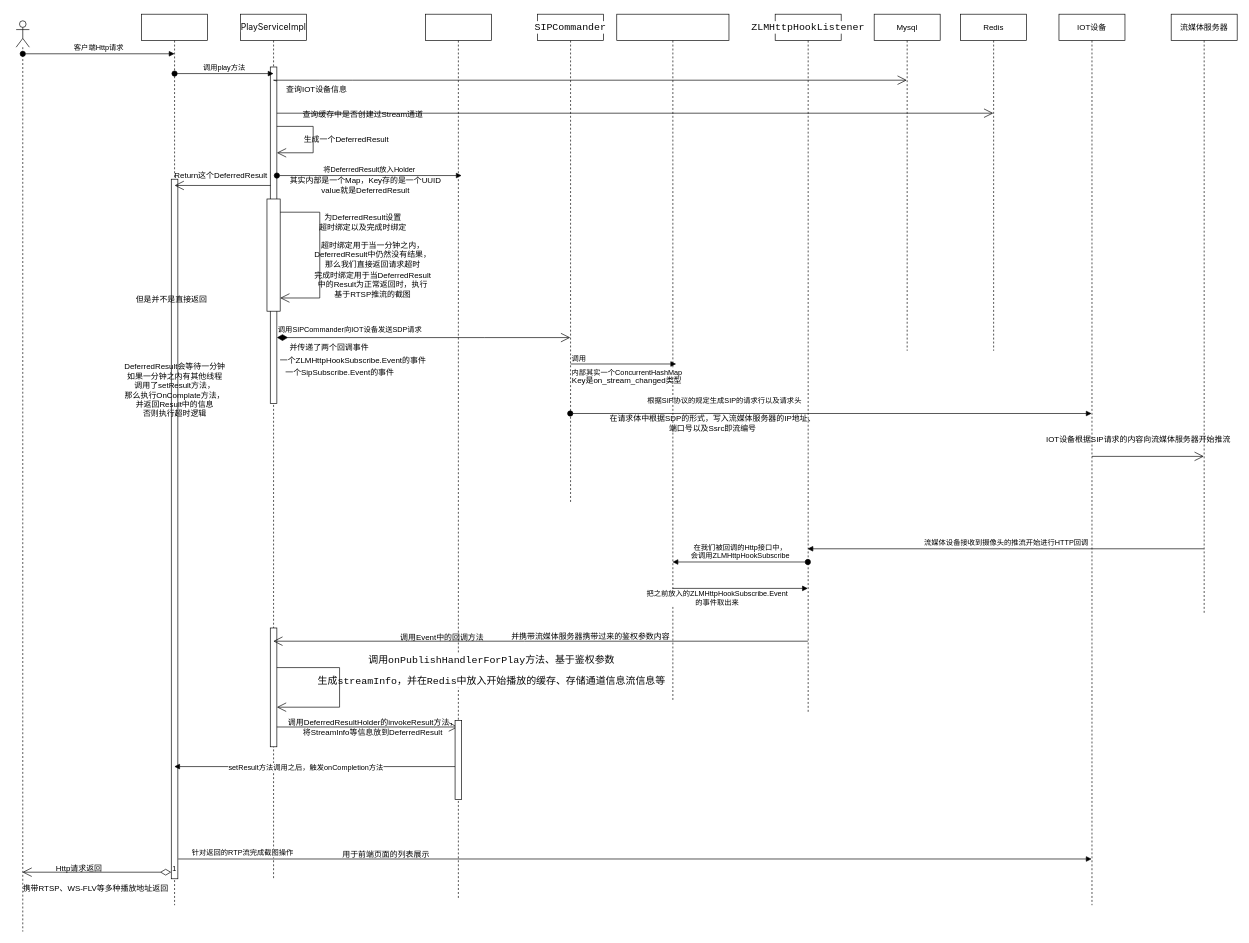
This 1249x943 diagram has some shape labels left out. The box of each missing label's shape, as (x1, y1, x2, y2) in pixels:
DeferredResultHolder: (425, 14, 491, 899)
PlayController: (141, 14, 208, 905)
ZLMHttpHookSubscribe: (616, 14, 729, 701)
